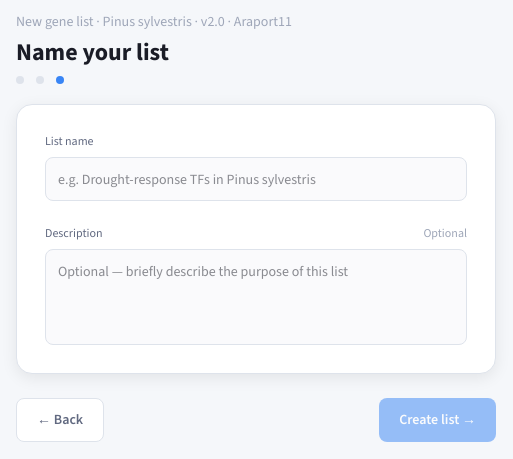
it: Wizard › Create list is disabled until the list has a name
This screenshot has width=513, height=459.
Expected: the button "Create list →" is disabled, [379,398,496,442]
In the field labelled "List name": (256, 179) [45,157,467,201], type "My list"
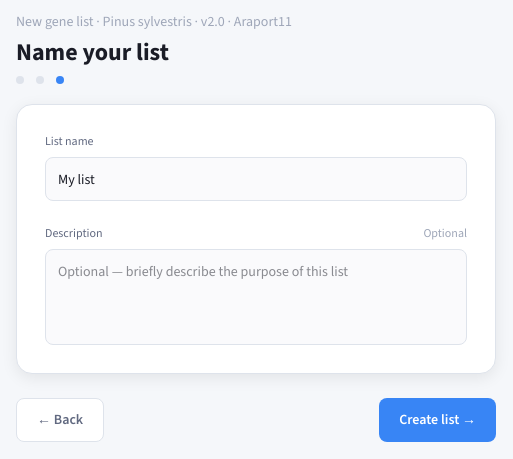
Expected: the button "Create list →" is enabled, [379,398,496,442]
